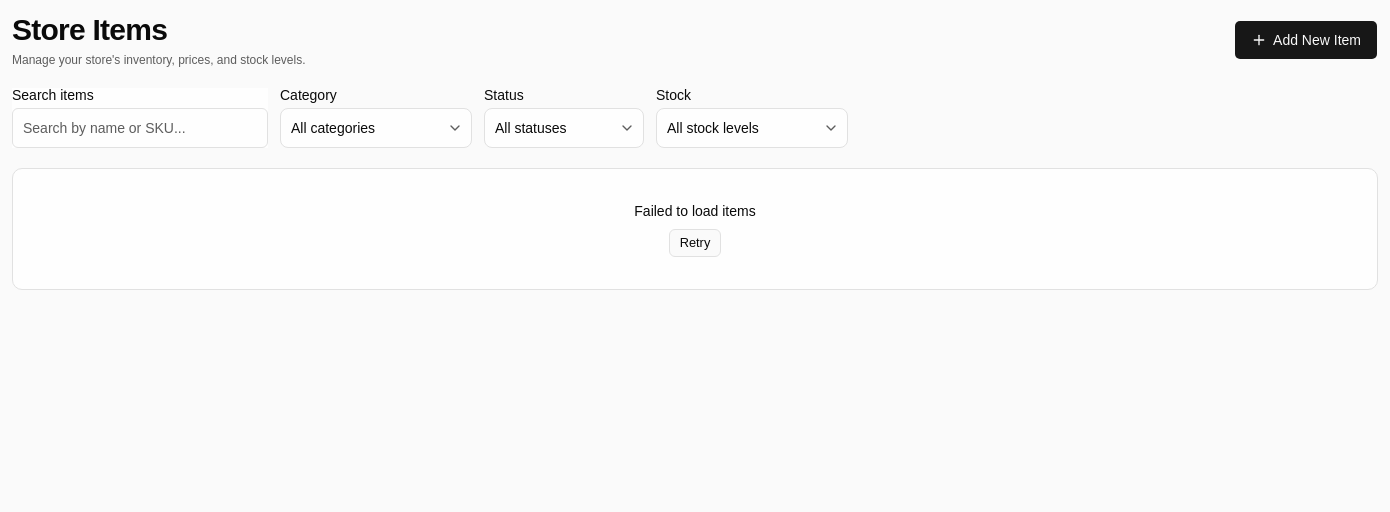
ItemPage › shows an error state and retries the items request
The image size is (1390, 512).
expect the text "Failed to load items" is shown: met, box [634, 201, 756, 221]
Click the button "Retry".
click(695, 243)  # box [669, 229, 721, 257]
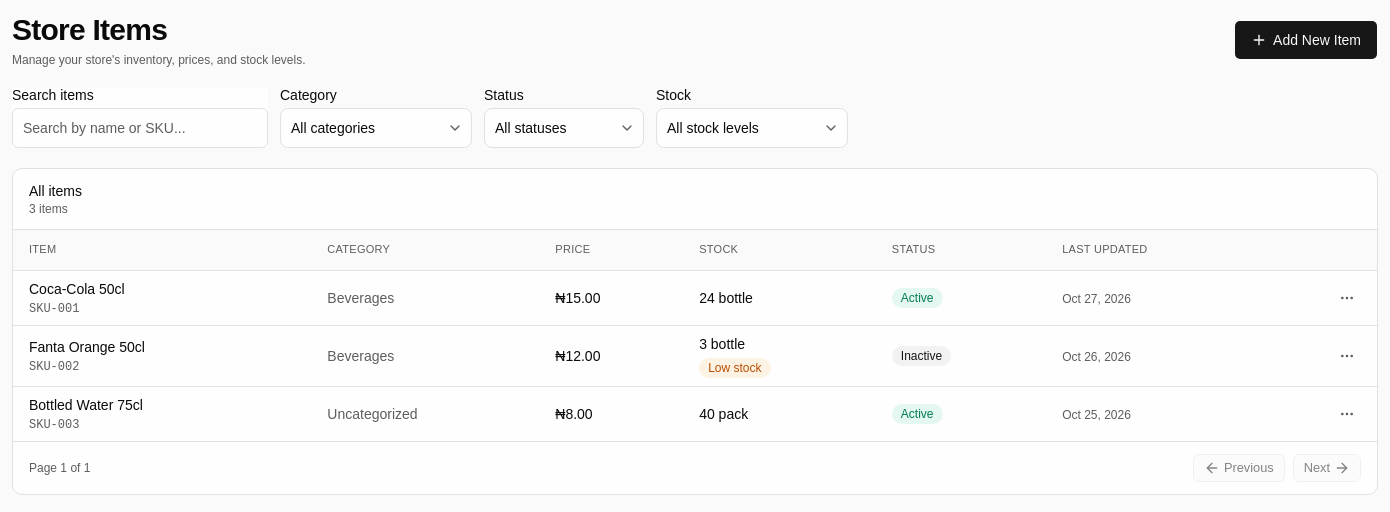
expect the text "Coca-Cola 50cl" is shown: met, box [29, 280, 125, 296]
